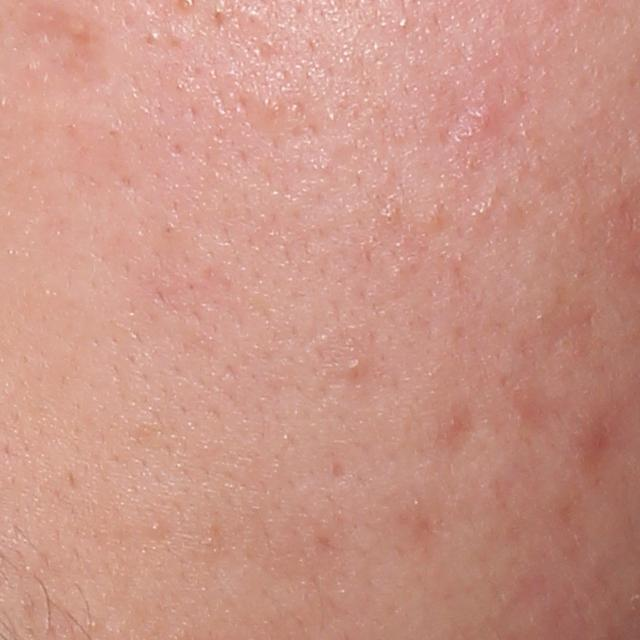comedo: (149, 521, 164, 537)
